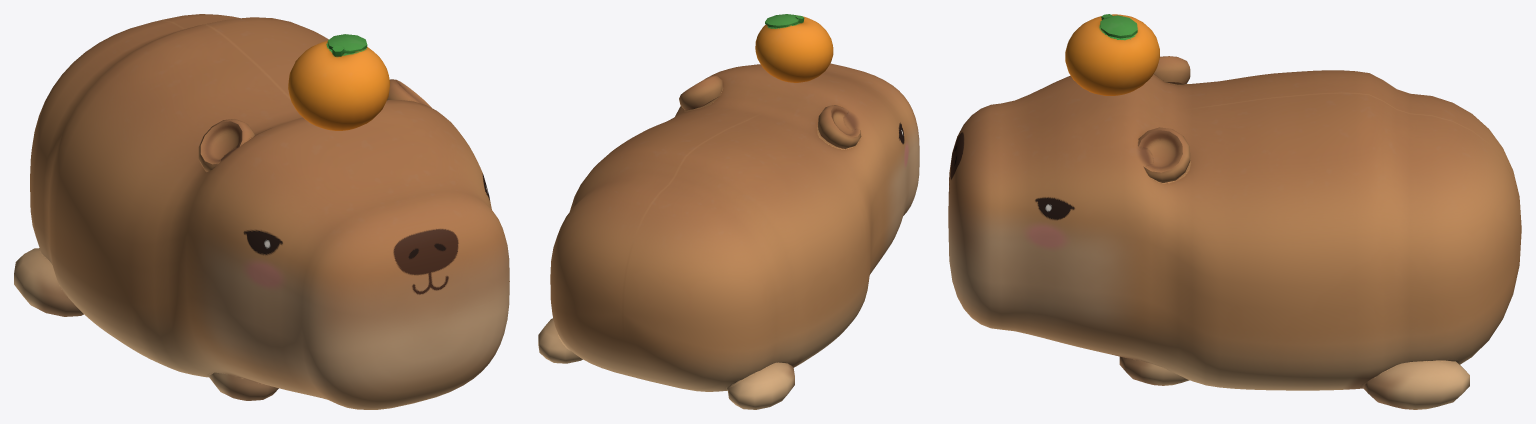
Rendered from Capybara.fbx.
The picture shows the model from 3 angles, left to right: view 1: azimuth 30°, elevation 25°; view 2: azimuth 150°, elevation 25°; view 3: azimuth 270°, elevation 25°; orthographic projection. The views are drawn at different scales.
Parts seen in each view (by area): view 1: Capybara_Body, Capybara_Orange; view 2: Capybara_Body, Capybara_Orange; view 3: Capybara_Body, Capybara_Orange.
Boxes of the visible parts, x1,y1,x2,y2 form: Capybara_Body: (14, 14, 509, 409); Capybara_Orange: (288, 34, 390, 130); Capybara_Body: (538, 63, 919, 409); Capybara_Orange: (755, 14, 833, 82); Capybara_Body: (948, 56, 1521, 409); Capybara_Orange: (1065, 14, 1159, 95).
Bounding box in the file's own units: 0.2599 × 0.271 × 0.4252.
1 material, 1 textured.
